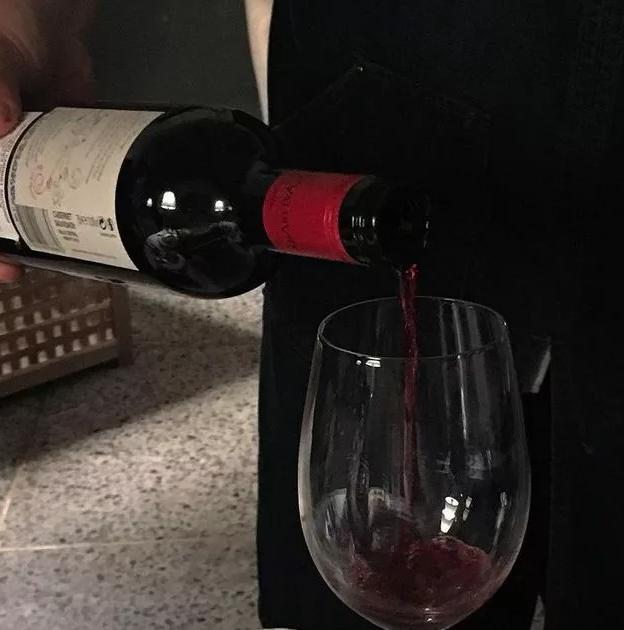wine bottle: (0, 99, 433, 303)
wine label: (9, 107, 163, 270)
